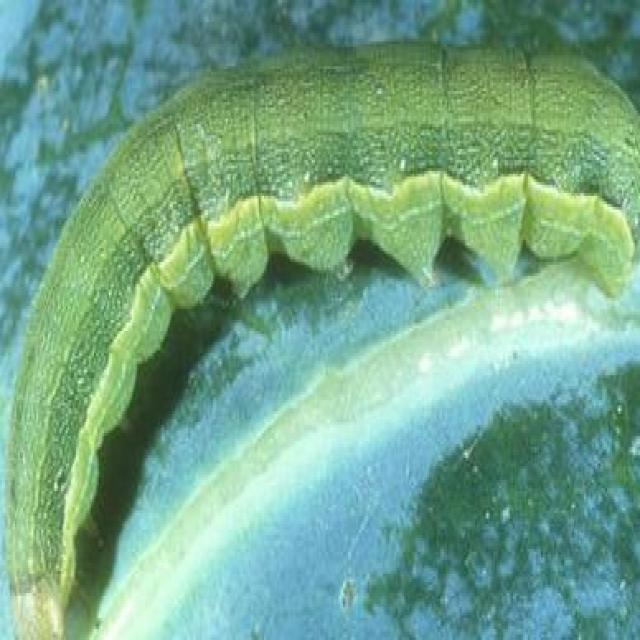BeetArmyWorm-Larva-: (2, 29, 637, 637)
